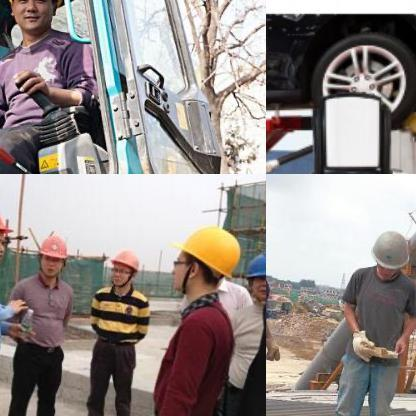Helmet: (166, 220, 242, 298), (367, 229, 409, 282), (0, 0, 62, 34), (33, 228, 71, 278), (240, 251, 265, 309), (108, 244, 140, 286), (0, 204, 10, 260)
